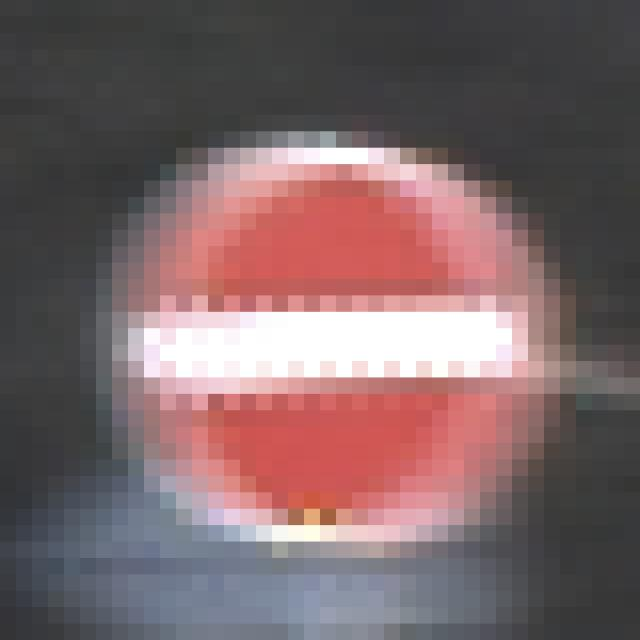No Entry: (81, 99, 561, 559)
